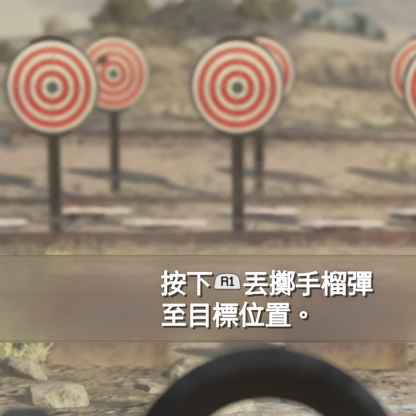target: (4, 35, 99, 136), (189, 36, 283, 136)
